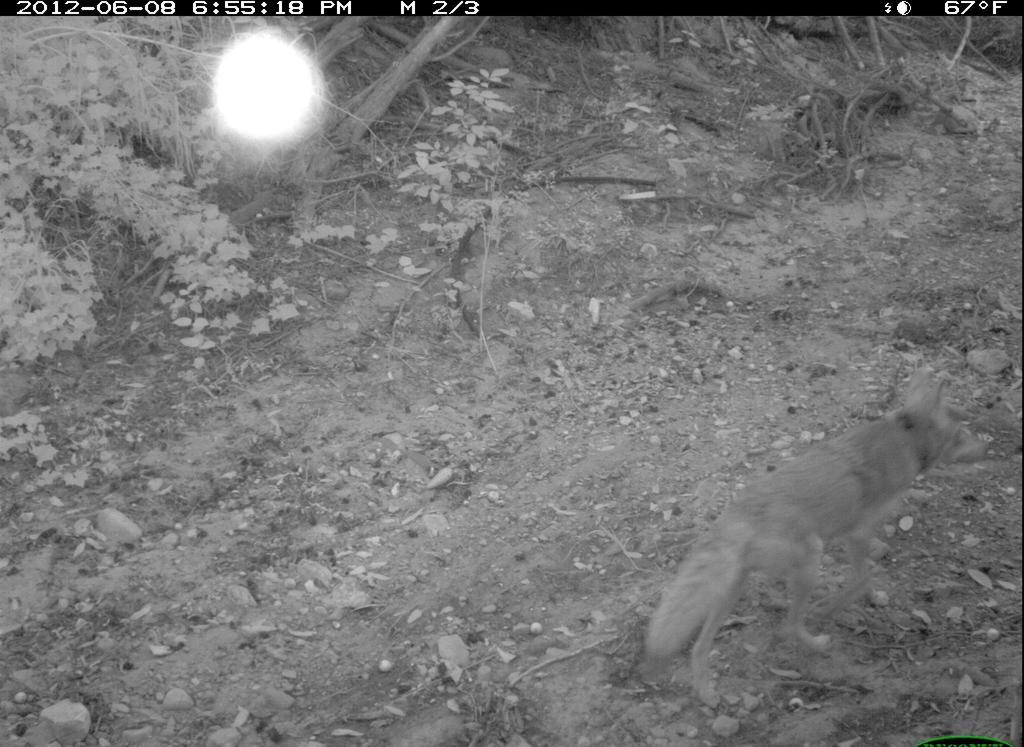coyote: (638, 360, 989, 715)
